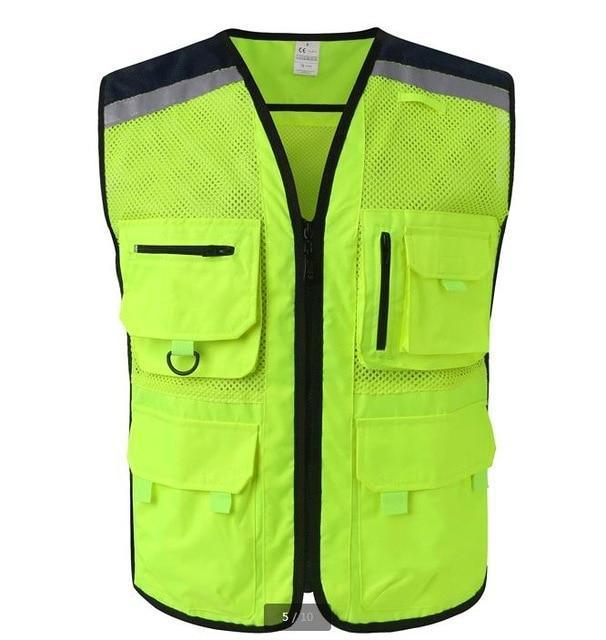vest: (92, 27, 515, 632)
